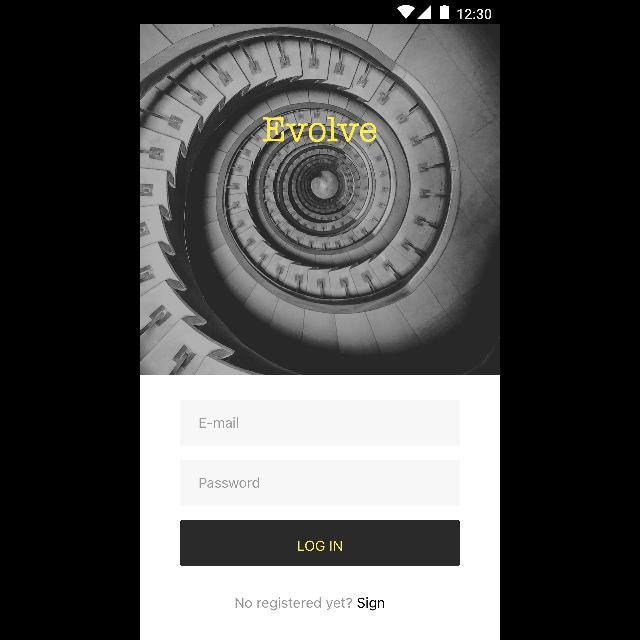image: (140, 24, 500, 376)
input: (180, 400, 460, 446), (180, 460, 460, 506)
text: (263, 117, 377, 143), (236, 597, 384, 611), (200, 478, 260, 488), (200, 418, 238, 428)
textbutton: (180, 520, 460, 566)
uppertaskbar: (140, 0, 500, 24)
